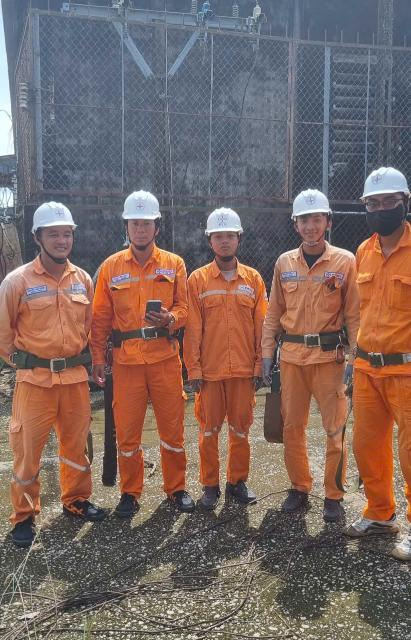gloves: (185, 364, 217, 398), (258, 357, 285, 388), (339, 364, 366, 395), (245, 353, 265, 394)
harness: (357, 334, 411, 375), (279, 323, 353, 352), (108, 321, 192, 344), (17, 347, 98, 369)
helmet: (360, 160, 411, 214), (288, 185, 343, 224), (29, 200, 78, 235), (202, 205, 247, 241), (120, 190, 161, 227)
shoes: (55, 485, 116, 532), (8, 501, 47, 557), (338, 506, 405, 536), (112, 488, 153, 527), (192, 476, 233, 515), (225, 468, 260, 511), (162, 483, 200, 520), (277, 483, 316, 519), (389, 515, 411, 567), (321, 488, 350, 525)
